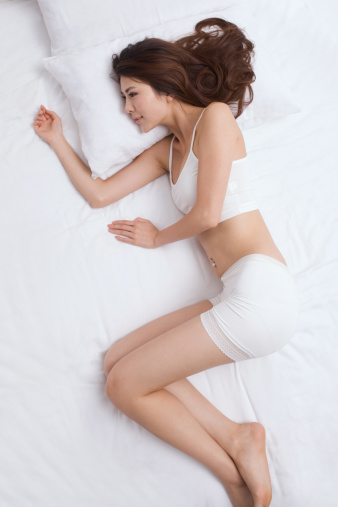deitado: (30, 15, 286, 507)
